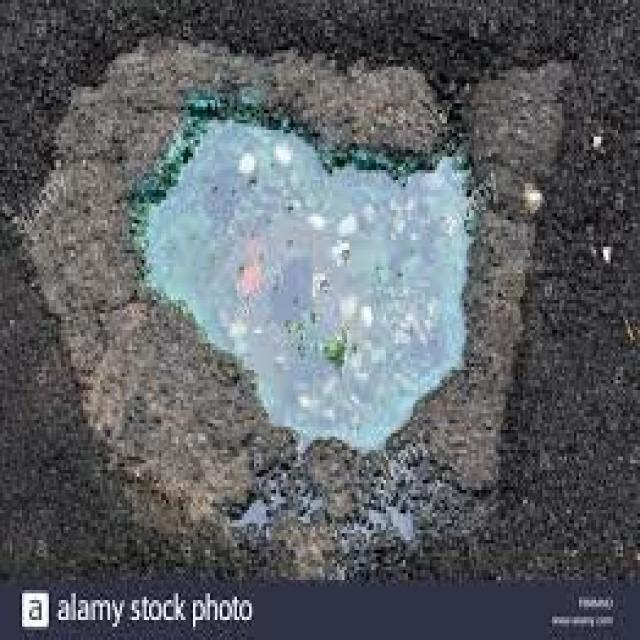Pothole: (22, 27, 559, 553)
